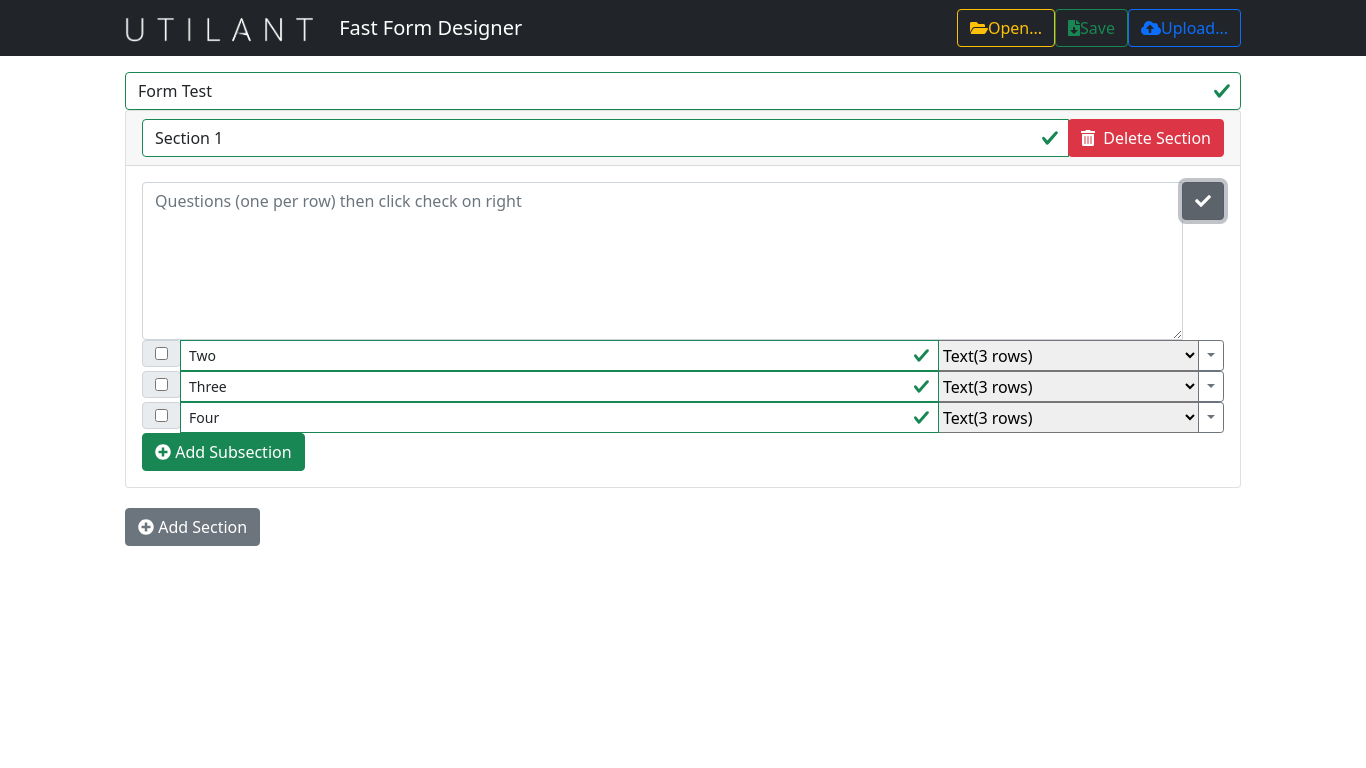
Scenario: E2E testing of Fast Form Designer › Edit Values displays modal
Click the 1st button with class "dropdown" at (1211,356), box [1198,340,1224,371]
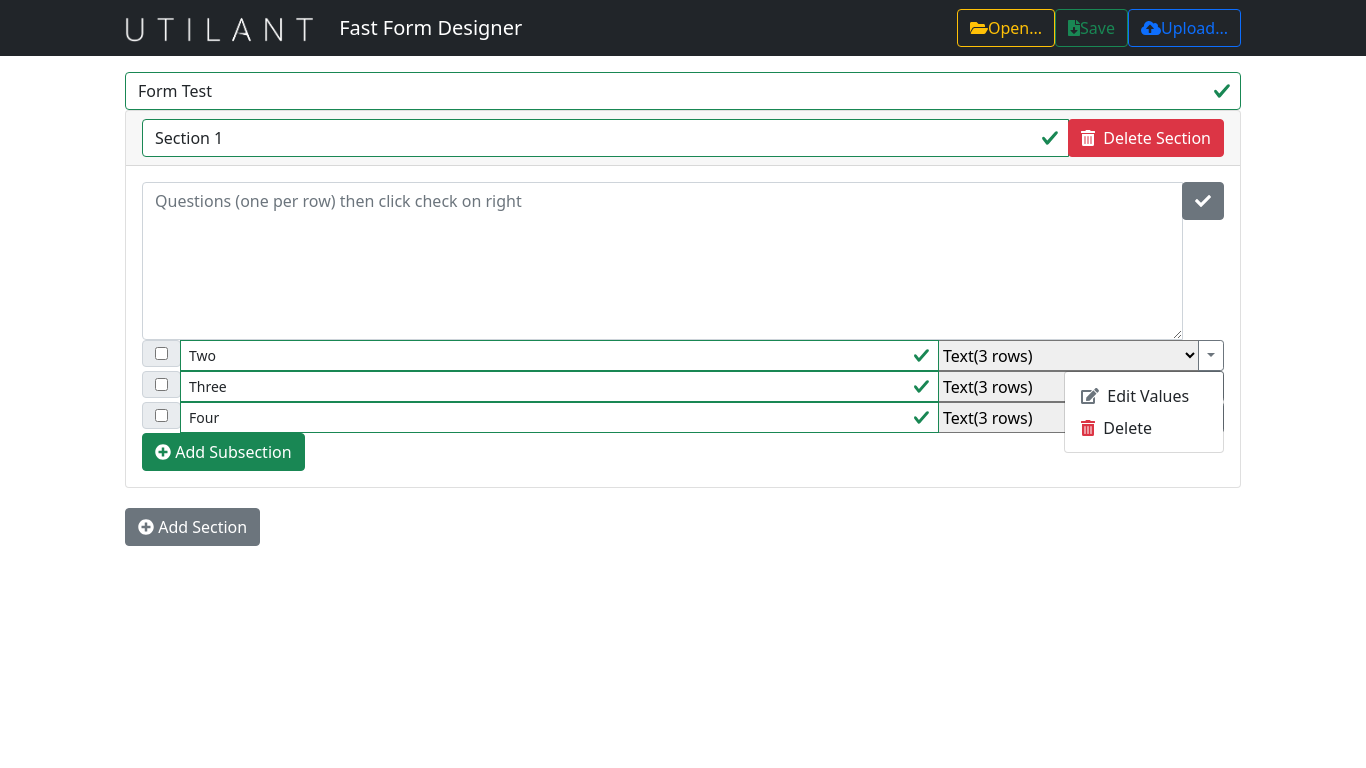
Click the list item with class "edit" at (1135,396), box [1081,385,1189,407]
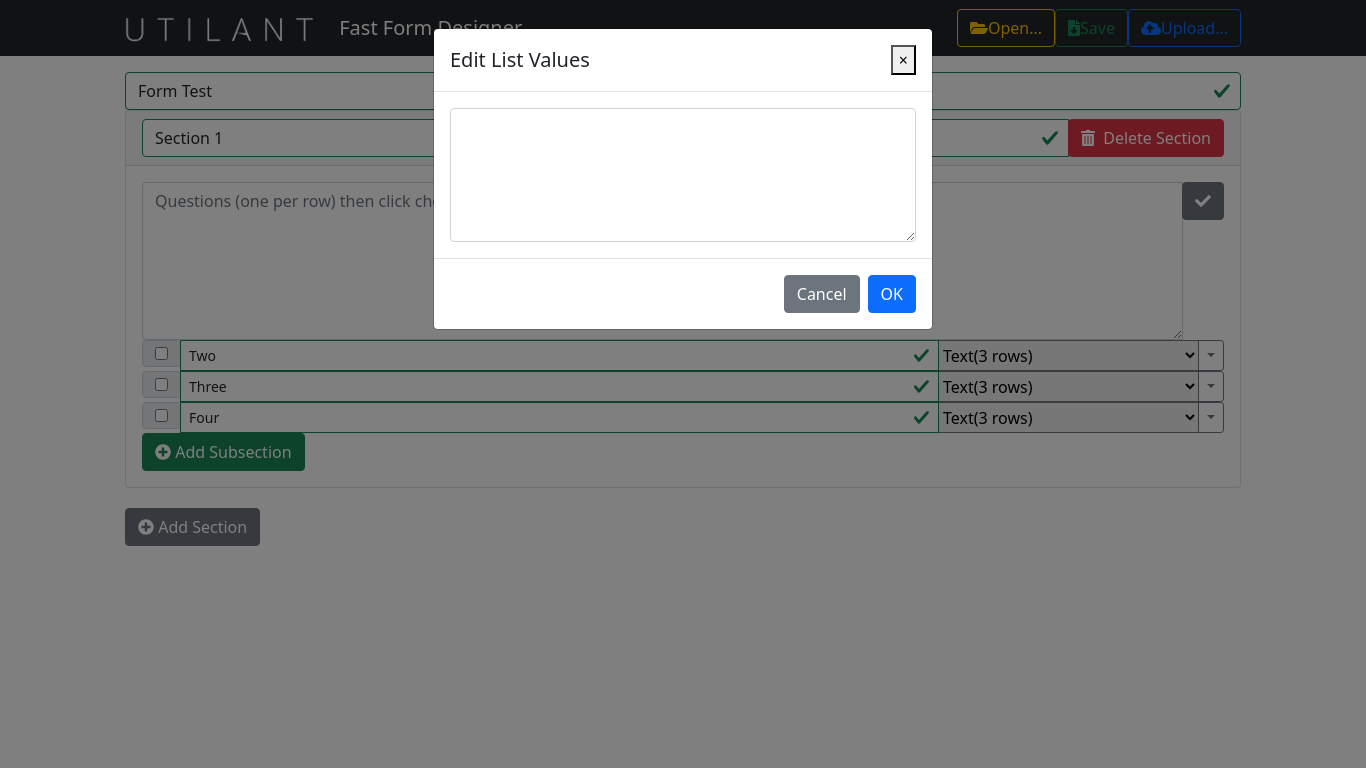
expect the heading "Edit List Values" is shown: met, box [450,45,590,75]
